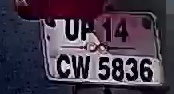1: (103, 16, 115, 43)
3: (125, 54, 138, 82)
4: (115, 15, 130, 44)
5: (96, 54, 110, 79)
6: (138, 56, 154, 82)
8: (111, 55, 126, 83)
C: (56, 54, 71, 81)
P: (80, 18, 96, 41)
U: (64, 17, 81, 42)
W: (70, 52, 91, 79)
